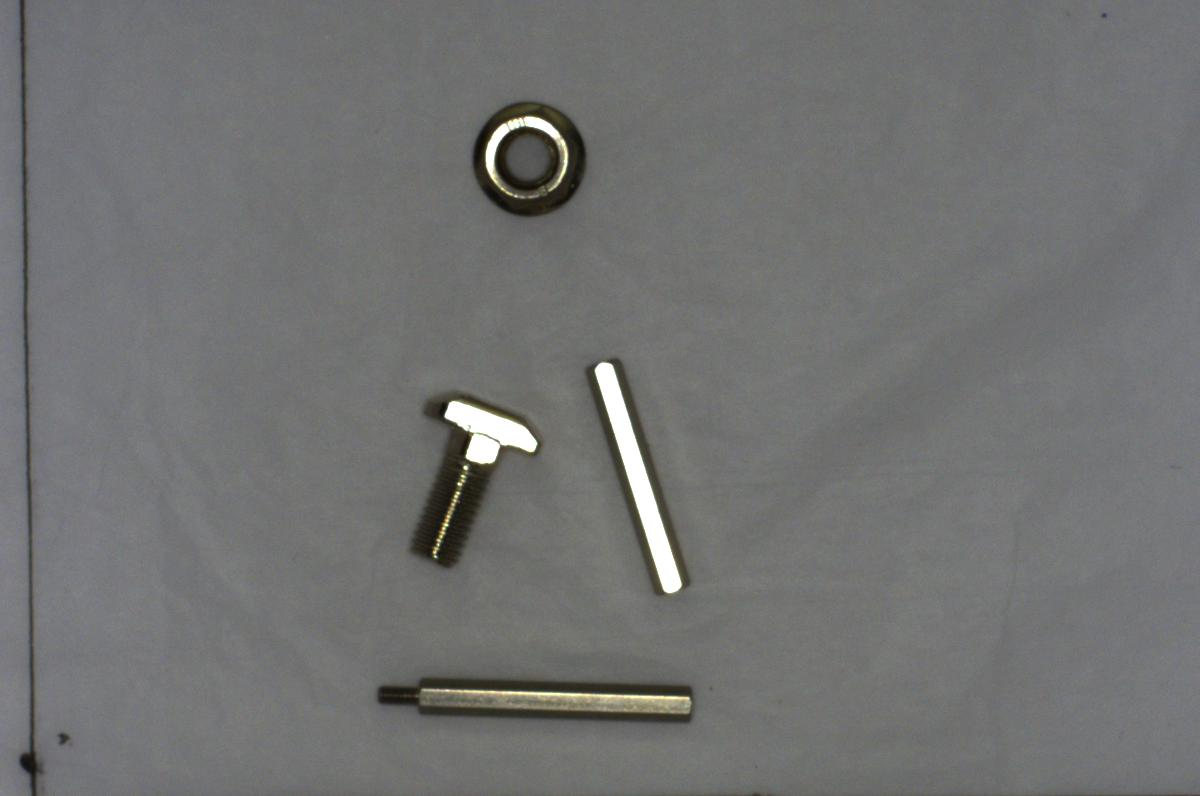Double hexagonal column: (577, 349, 704, 610)
Flange nut: (465, 94, 591, 223)
Hexagonal steel column: (361, 663, 708, 740)
T-shaped screw: (399, 381, 550, 563)
